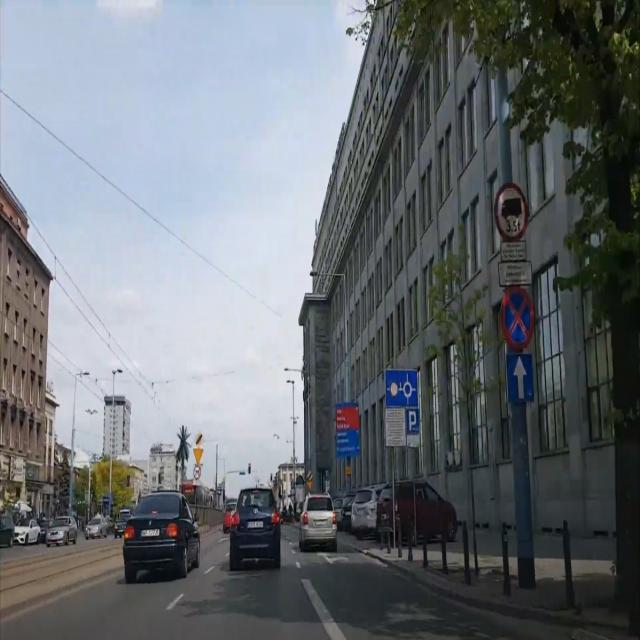Ustap pierwszenstwa: (193, 447, 204, 465), (306, 480, 312, 490)
Zakaz zatrzymywania sie: (500, 286, 534, 350)
